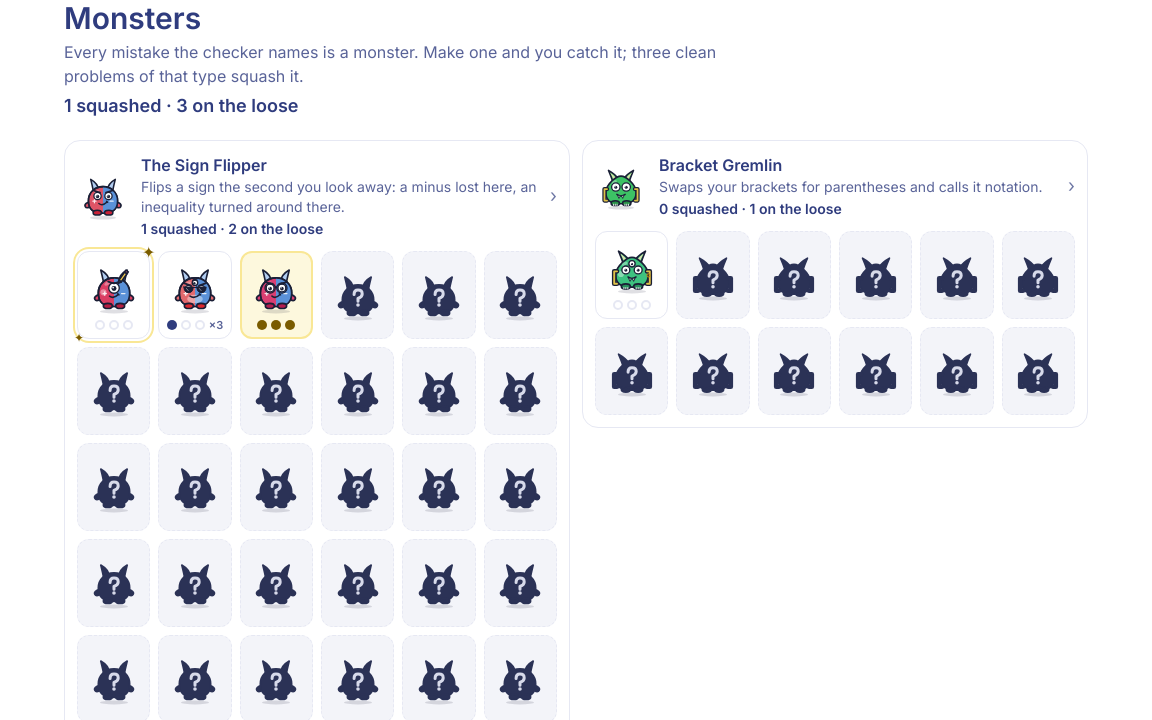
Test case: a monster’s card › a squashed monster’s card, with rewards on: gold, and XP mentioned where it pays
Click the button named "The Sign Flipper: Adding never flips. Squashed. Caught once." at (276, 295), box [240,251,313,339]
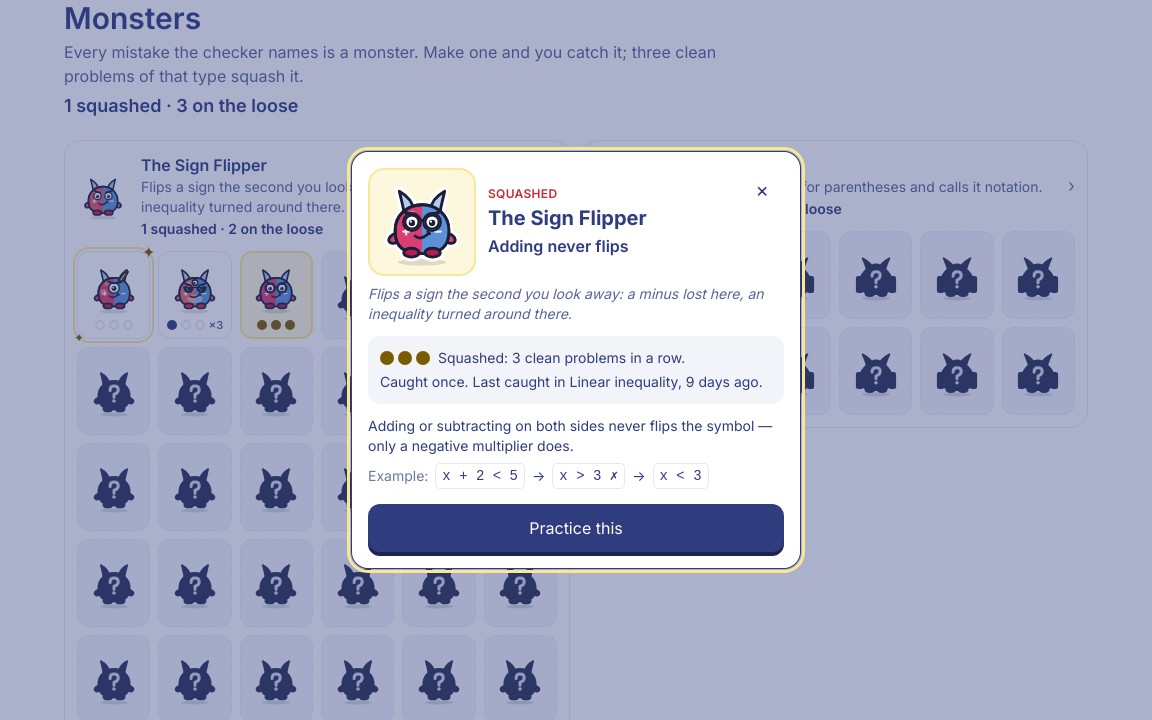
Expected: the dialog "The Sign Flipper" shows "Squashed: 3 clean problems in a row.", [438,349,685,366]
Click the button named "Close" at (762, 190), box [740,168,784,212]
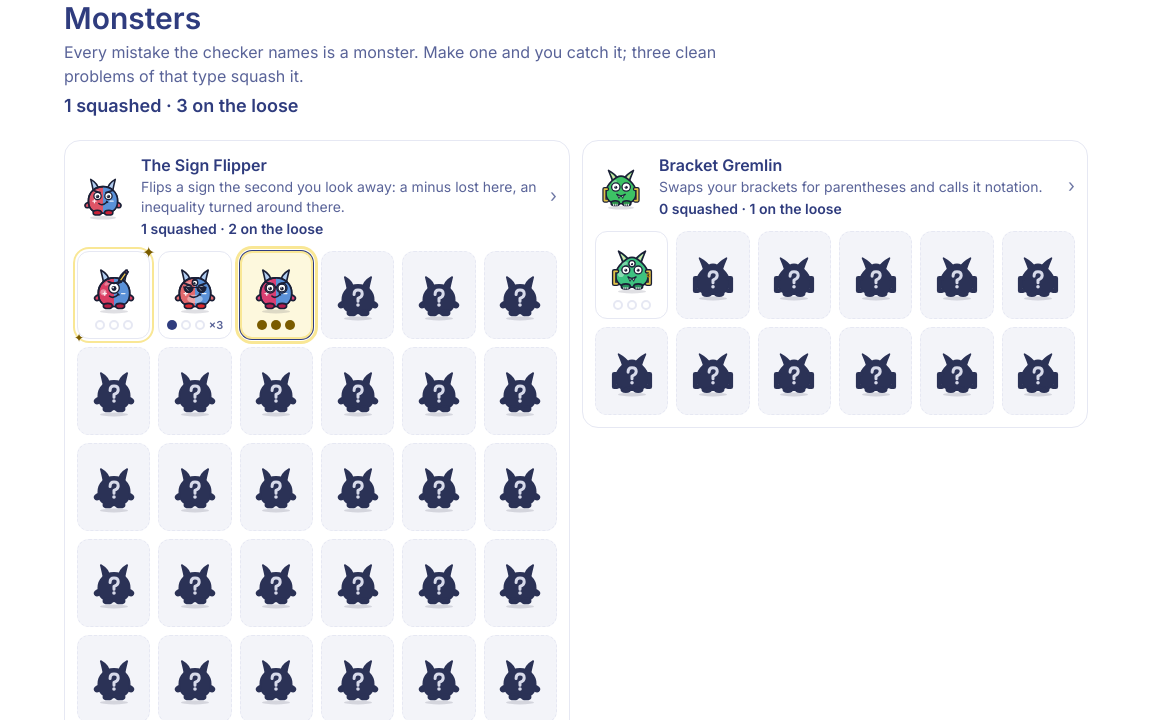
Click the button "×3" at (195, 295), box [158,251,232,339]
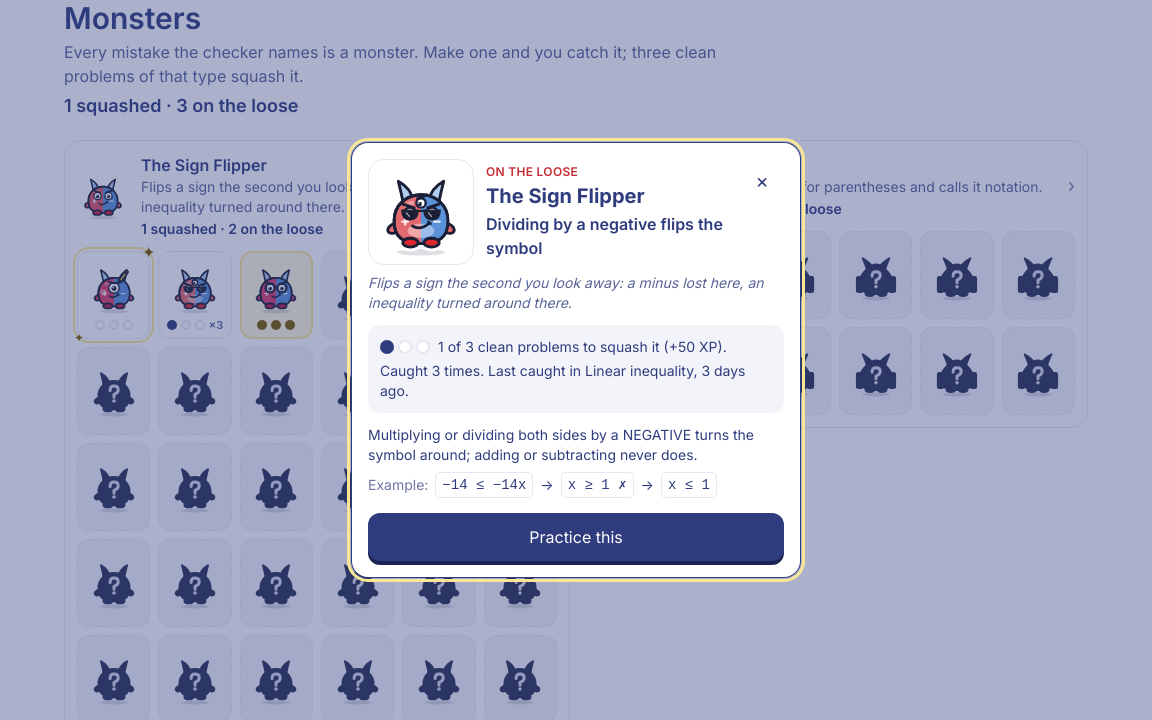
Expected: the dialog shows "1 of 3 clean problems to squash it (+50 XP).", [438,338,727,355]
